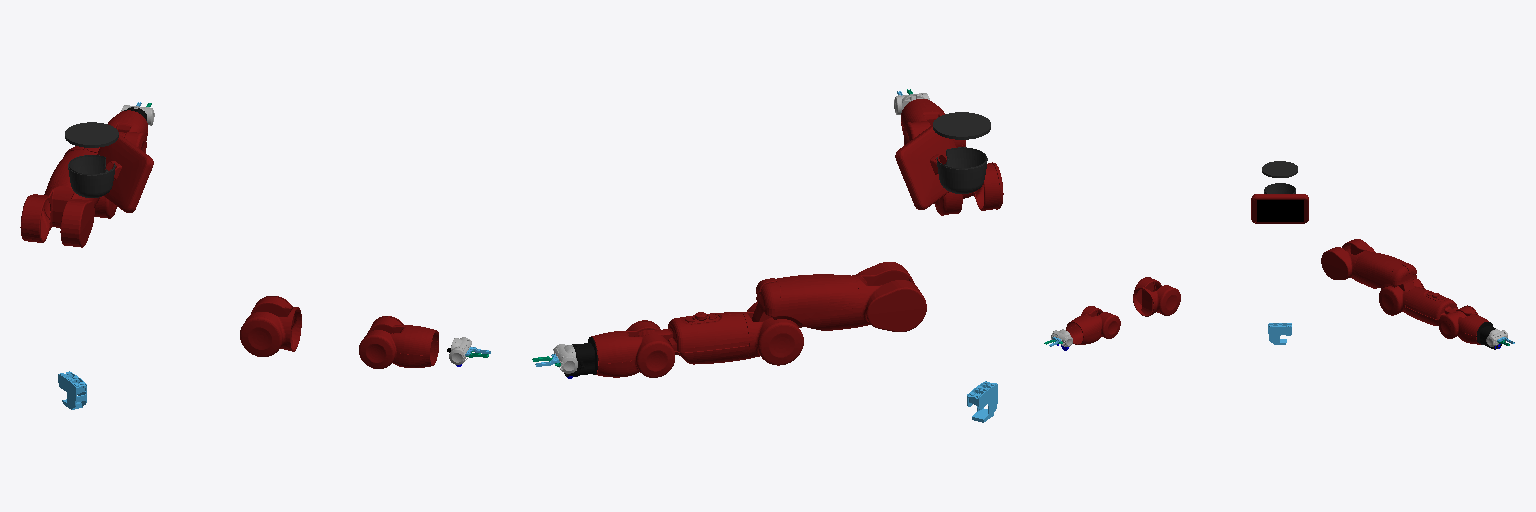
--- Facts derived from the render (not from the file) ---
Views: 3 orthographic renders of the robot side by side, from view 1: azimuth 30°, elevation 25°; view 2: azimuth 150°, elevation 25°; view 3: azimuth 270°, elevation 25°.
Robot: baxter — 43 links, 42 joints (15 revolute, 4 prismatic, 23 fixed); root link base; default pose: all joints at 0.
Links seen in each view (by area): view 1: left_lower_shoulder, right_lower_forearm, right_lower_elbow, screen, head, sonar_ring, left_lower_forearm, left_upper_elbow, torso; view 2: left_upper_elbow, left_upper_forearm, left_lower_shoulder, left_lower_forearm, screen, left_lower_elbow, head, right_lower_elbow, sonar_ring, right_lower_forearm, torso, left_wrist; view 3: left_upper_elbow, right_lower_forearm, right_lower_elbow, left_upper_forearm, left_lower_shoulder, left_lower_forearm, display, left_lower_elbow, screen.
Link boxes in pixels (left/top/right/bottom): left_lower_shoulder: left=20, top=184, right=94, bottom=247; right_lower_forearm: left=359, top=316, right=438, bottom=368; right_lower_elbow: left=240, top=296, right=301, bottom=356; screen: left=97, top=134, right=153, bottom=212; head: left=68, top=155, right=115, bottom=197; sonar_ring: left=65, top=122, right=118, bottom=147; left_lower_forearm: left=108, top=110, right=147, bottom=152; left_upper_elbow: left=44, top=146, right=99, bottom=219; torso: left=58, top=371, right=86, bottom=409; left_upper_elbow: left=752, top=274, right=860, bottom=330; left_upper_forearm: left=634, top=312, right=748, bottom=364; left_lower_shoulder: left=852, top=262, right=926, bottom=331; left_lower_forearm: left=591, top=320, right=674, bottom=377; screen: left=895, top=125, right=956, bottom=209; left_lower_elbow: left=742, top=302, right=803, bottom=365; head: left=936, top=147, right=987, bottom=193; right_lower_elbow: left=934, top=162, right=1003, bottom=215; sonar_ring: left=933, top=112, right=990, bottom=139; right_lower_forearm: left=901, top=99, right=965, bottom=147; torso: left=967, top=381, right=997, bottom=422; left_wrist: left=564, top=337, right=597, bottom=376; left_upper_elbow: left=1353, top=251, right=1416, bottom=291; right_lower_forearm: left=1066, top=306, right=1120, bottom=344; right_lower_elbow: left=1133, top=277, right=1180, bottom=316; left_upper_forearm: left=1406, top=288, right=1466, bottom=325; left_lower_shoulder: left=1321, top=239, right=1374, bottom=280; left_lower_forearm: left=1438, top=305, right=1488, bottom=344; display: left=1257, top=200, right=1303, bottom=221; left_lower_elbow: left=1379, top=278, right=1424, bottom=315; screen: left=1251, top=194, right=1308, bottom=223.
Bounding box of the posed robot: 0.924 × 2.19 × 0.9265 m (x, y, z).
17 mesh visuals loaded from 17 distinct referenced files (11 OBJ); not drawn: 7 (reference not matched to a file when rendering).

URDF robot description (baxter):
<?xml version="1.0" ?>
<!-- ============================================================================================== -->
<!-- |                                                                                            | -->
<!-- |    baxter.urdf is DEPRECATED. It is included here for backward compatibility.              | -->
<!-- |    Please use baxter.urdf.xacro by running:                                                | -->
<!-- |$ rosrun xacro xacro.py - -inorder `rospack find baxter_description`/urdf/baxter.urdf.xacro | -->
<!-- |                                                                                            | -->
<!-- ============================================================================================== -->
<robot name="baxter">
  <link name="base">
  </link>
  <link name="torso">
    <visual>
      <origin rpy="0 0 0" xyz="0 0 0"/>
      <geometry>
        <mesh filename="package://baxter_description/meshes/torso/base_link.obj"/>
      </geometry>
    </visual>
    <collision>
      <origin rpy="0 0 0" xyz="0 0 0"/>
      <geometry>
        <mesh filename="package://baxter_description/meshes/torso/base_link_collision.obj"/>
      </geometry>
    </collision>
    <inertial>
      <origin rpy="0 0 0" xyz="0.000000 0.000000 0.000000"/>
      <mass value="35.336455"/>
      <inertia ixx="1.849155" ixy="-0.000354" ixz="-0.154188" iyy="1.662671" iyz="0.003292" izz="0.802239"/>
    </inertial>
  </link>
  <!--link name="left_torso_itb">
    <inertial>
      <origin rpy="0 0 0" xyz="0.000000 0.000000 0.000000"/>
      <mass value="0.0001"/>
      <inertia ixx="1e-08" ixy="0" ixz="0" iyy="1e-08" iyz="0" izz="1e-08"/>
    </inertial>
  </link>
  <link name="right_torso_itb">
    <inertial>
      <origin rpy="0 0 0" xyz="0.000000 0.000000 0.000000"/>
      <mass value="0.0001"/>
      <inertia ixx="1e-08" ixy="0" ixz="0" iyy="1e-08" iyz="0" izz="1e-08"/>
    </inertial>
  </link-->
  <link name="pedestal">
    <visual>
      <origin rpy="0 0 0" xyz="0 0 0"/>
      <geometry>
        <mesh filename="package://baxter_description/meshes/base/PEDESTAL.obj"/>
      </geometry>
      <material name="darkgray">
        <color rgba=".2 .2 .2 1"/>
      </material>
    </visual>
    <collision>
      <origin rpy="0 0 0" xyz="0 0 0"/>
      <geometry>
        <mesh filename="package://baxter_description/meshes/base/pedestal_link_collision.obj"/>
      </geometry>
    </collision>
    <inertial>
      <origin rpy="0 0 0" xyz="0 0 0"/>
      <mass value="60.86397744"/>
      <inertia ixx="5.0635929" ixy="0.00103417" ixz="0.80199628" iyy="6.08689388" iyz="0.00105311" izz="4.96191932"/>
    </inertial>
  </link>
  <link name="head">
    <visual>
      <origin rpy="0 0 0" xyz="0 0 .00953"/>
      <geometry>
        <mesh filename="package://baxter_description/meshes/head/H0.obj"/>
      </geometry>
      <material name="darkgray">
        <color rgba=".2 .2 .2 1"/>
      </material>
    </visual>
    <collision>
      <origin rpy="0 0 0" xyz="0.0 0 0.0"/>
      <geometry>
        <sphere radius="0.001"/>
      </geometry>
    </collision>
    <inertial>
      <origin rpy="0 0 0" xyz="0 0 0"/>
      <mass value="0.547767"/>
      <inertia ixx="0.004641" ixy="0.000159" ixz="0.000242" iyy="0.003295" iyz="-0.001324" izz="0.003415"/>
    </inertial>
  </link>
  <link name="sonar_ring">
    <visual>
      <origin rpy="0 0 0" xyz="-.0347 0 .00953"/>
      <geometry>
        <cylinder length="0.01" radius="0.085"/>
      </geometry>
      <material name="darkgray">
        <color rgba=".2 .2 .2 1"/>
      </material>
    </visual>
    <collision>
      <origin rpy="0 0 0" xyz="0.0 0 0.0"/>
      <geometry>
        <sphere radius="0.001"/>
      </geometry>
    </collision>
    <inertial>
      <origin rpy="0 0 0" xyz="0 0 0"/>
      <mass value="0.0001"/>
      <inertia ixx="1e-08" ixy="0" ixz="0" iyy="1e-08" iyz="0" izz="1e-08"/>
    </inertial>
  </link>
  <link name="screen">
    <visual>
      <origin rpy="0 -1.57079632679 0" xyz="0 -.00953 -.0347"/>
      <geometry>
        <mesh filename="package://baxter_description/meshes/head/H1.obj"/>
      </geometry>
      <material name="darkred">
        <color rgba=".5 .1 .1 1"/>
      </material>
    </visual>
    <collision>
      <origin rpy="0 0 0" xyz="0.0 0 0.0"/>
      <geometry>
        <sphere radius="0.001"/>
      </geometry>
    </collision>
    <inertial>
      <origin rpy="0 0 0" xyz="0 0 0"/>
      <mass value="0.440171"/>
      <inertia ixx="0.004006" ixy="0.000230" ixz="0.000002" iyy="0.002800" iyz="0.000029" izz="0.001509"/>
    </inertial>
  </link>
  <link name="display">
    <visual>
      <origin rpy="0.2617993877991494 0 0" xyz="0 0 0"/>
      <geometry>
        <box size="0.218 0.16 0.001"/>
      </geometry>
      <material name="black">
        <color rgba="0 0 0 1"/>
      </material>
    </visual>
    <inertial>
      <origin rpy="0 0 0" xyz="0 0 0"/>
      <mass value="0.0001"/>
      <inertia ixx="1e-08" ixy="0" ixz="0" iyy="1e-08" iyz="0" izz="1e-08"/>
    </inertial>
  </link>
  <link name="head_camera">
    <inertial>
      <origin rpy="0 0 0" xyz="0 0 0"/>
      <mass value="0.0001"/>
      <inertia ixx="1e-08" ixy="0" ixz="0" iyy="1e-08" iyz="0" izz="1e-08"/>
    </inertial>
  </link>
  <link name="dummyhead1">
    <inertial>
      <origin rpy="0 0 0" xyz="0 0 0"/>
      <mass value="0.0001"/>
      <inertia ixx="1e-08" ixy="0" ixz="0" iyy="1e-08" iyz="0" izz="1e-08"/>
    </inertial>
  </link>
  <link name="collision_head_link_1">
    <visual>
      <origin rpy="0 0 0" xyz="0 0 0"/>
      <geometry>
        <sphere radius="0.001"/>
      </geometry>
      <material name="red">
        <color rgba="0.8 0.3 0.3 0.3"/>
      </material>
    </visual>
    <collision>
      <origin rpy="0 0 0.0" xyz="-0.07 -0.04 0.0"/>
      <geometry>
        <sphere radius="0.22"/>
      </geometry>
    </collision>
    <inertial>
      <origin rpy="0 0 0" xyz="0 0 0"/>
      <mass value="0.0001"/>
      <inertia ixx="1e-08" ixy="0" ixz="0" iyy="1e-08" iyz="0" izz="1e-08"/>
    </inertial>
  </link>
  <link name="collision_head_link_2">
    <visual>
      <origin rpy="0 0 0" xyz="0 0 0"/>
      <geometry>
        <sphere radius="0.001"/>
      </geometry>
      <material name="red">
        <color rgba="0.8 0.3 0.3 0.3"/>
      </material>
    </visual>
    <collision>
      <origin rpy="0 0 0" xyz="-0.07 0.04 0.00"/>
      <geometry>
        <sphere radius="0.22"/>
      </geometry>
    </collision>
    <inertial>
      <origin rpy="0 0 0" xyz="0 0 0"/>
      <mass value="0.0001"/>
      <inertia ixx="1e-08" ixy="0" ixz="0" iyy="1e-08" iyz="0" izz="1e-08"/>
    </inertial>
  </link>
  <joint name="collision_head_1" type="fixed">
    <origin rpy="0 0 0" xyz="0.11 0 0.75"/>
    <parent link="base"/>
    <child link="collision_head_link_1"/>
  </joint>
  <joint name="collision_head_2" type="fixed">
    <origin rpy="0 0 0" xyz="0.11 0 0.75"/>
    <parent link="base"/>
    <child link="collision_head_link_2"/>
  </joint>
  <joint name="dummy" type="fixed">
    <origin rpy="0 0 0" xyz="0 0 0"/>
    <parent link="head"/>
    <child link="dummyhead1"/>
  </joint>
  <joint name="torso_t0" type="fixed">
    <origin rpy="0 0 0" xyz="0 0 0"/>
    <parent link="base"/>
    <child link="torso"/>
    <limit effort="50000" lower="-3.01" upper="3.01" velocity="10000"/>
  </joint>
  <!--joint name="left_torso_itb_fixed" type="fixed">
    <origin rpy="-1.57079632679 3.1415 0" xyz="-0.08897 0.15593 0.389125"/>
    <parent link="torso"/>
    <child link="left_torso_itb"/>
  </joint>
  <joint name="right_torso_itb_fixed" type="fixed">
    <origin rpy="1.57079632679 0 0" xyz="-0.08897 -0.15593 0.389125"/>
    <parent link="torso"/>
    <child link="right_torso_itb"/>
  </joint-->
  <joint name="pedestal_fixed" type="fixed">
    <origin rpy="0 0 0" xyz="0.0 0.0 0.0"/>
    <parent link="torso"/>
    <child link="pedestal"/>
  </joint>
  <joint name="head_pan" type="revolute">
    <origin rpy="0 0 0" xyz="0.06 0 0.686"/>
    <axis xyz="0 0 1"/>
    <parent link="torso"/>
    <child link="head"/>
    <limit effort="50000" lower="-1.57079632679" upper="1.57079632679" velocity="10000"/>
    <dynamics damping="0.7" friction="0.0"/>
  </joint>
  <joint name="head_nod" type="fixed">
    <origin rpy="1.75057 0 1.57079632679" xyz=".1227 0 0"/>
    <parent link="head"/>
    <child link="screen"/>
  </joint>
  <joint name="head_camera" type="fixed">
    <origin rpy="1.75057 0 1.57079632679" xyz="0.12839 0 0.06368"/>
    <parent link="head"/>
    <child link="head_camera"/>
  </joint>
  <joint name="display_joint" type="fixed">
    <origin rpy="0 0 0" xyz="0.0 -0.016 0.0"/>
    <parent link="screen"/>
    <child link="display"/>
  </joint>
  <joint name="sonar_s0" type="fixed">
    <origin rpy="0 0 0" xyz="0.0947 0 .817"/>
    <axis xyz="0 0 1"/>
    <parent link="torso"/>
    <child link="sonar_ring"/>
  </joint>
  <!--link name="right_arm_mount">
    <gravity>0</gravity>
    <inertial>
      <origin rpy="0 0 0" xyz="0 0 0"/>
      <mass value="1"/>
      <inertia ixx="1" ixy="0" ixz="0" iyy="1" iyz="0" izz="1"/>
    </inertial>
  </link-->
  <link name="right_upper_shoulder">
 <gravity>0</gravity>
    <visual>
      <origin rpy="0 0 0" xyz="0 0 0"/>
      <geometry>
        <mesh filename="package://baxter_description/meshes/upper_shoulder/S0.DAE"/>
      </geometry>
      <material name="darkred">
        <color rgba=".5 .1 .1 1"/>
      </material>
    </visual>
    <collision>
      <origin rpy="0 0 0" xyz="0 0 0.1361"/>
      <geometry>
        <cylinder length="0.2722" radius="0.06"/>
      </geometry>
    </collision>
    <inertial>
      <origin rpy="0 0 0" xyz="0.01783 0.00086 0.19127"/>
      <mass value="5.70044"/>
      <inertia ixx="0.04709102262" ixy="0.00012787556" ixz="0.00614870039" iyy="0.03766976455" iyz="0.00078086899" izz="0.03595988478"/>
    </inertial>
  </link>
  <link name="right_lower_shoulder">
 <gravity>0</gravity>
    <visual>
      <origin rpy="0 0 0" xyz="0 0 0"/>
      <geometry>
        <mesh filename="package://baxter_description/meshes/lower_shoulder/S1.DAE"/>
      </geometry>
      <material name="darkred">
        <color rgba=".5 .1 .1 1"/>
      </material>
    </visual>
    <collision>
      <origin rpy="0 0 0" xyz="0 0 0"/>
      <geometry>
        <cylinder length="0.12" radius="0.06"/>
      </geometry>
    </collision>
    <inertial>
      <origin rpy="0 0 0" xyz="0.06845 0.00269 -0.00529"/>
      <mass value="3.22698"/>
      <inertia ixx="0.01175209419" ixy="-0.00030096398" ixz="0.00207675762" iyy="0.0278859752" iyz="-0.00018821993" izz="0.02078749298"/>
    </inertial>
  </link>
  <link name="right_upper_elbow">
 <gravity>0</gravity>
    <visual>
      <origin rpy="0 0 0" xyz="0 0 0"/>
      <geometry>
        <mesh filename="package://baxter_description/meshes/upper_elbow/E0.DAE"/>
      </geometry>
      <material name="darkred">
        <color rgba=".5 .1 .1 1"/>
      </material>
    </visual>
    <collision>
      <origin rpy="0 0 0" xyz="0 0 -0.0535"/>
      <geometry>
        <cylinder length="0.107" radius="0.06"/>
      </geometry>
    </collision>
    <inertial>
      <origin rpy="0 0 0" xyz="-0.00276 0.00132 0.18086"/>
      <mass value="4.31272"/>
      <inertia ixx="0.02661733557" ixy="0.00029270634" ixz="0.00392189887" iyy="0.02844355207" iyz="0.0010838933" izz="0.01248008322"/>
    </inertial>
  </link>
  <!--link name="right_upper_elbow_visual">
 <gravity>0</gravity>
    <collision>
      <origin rpy="0 0 0" xyz="0 0 0.1365"/>
      <geometry>
        <cylinder length="0.273" radius="0.06"/>
      </geometry>
    </collision>
    <inertial>
      <origin rpy="0 0 0" xyz="0 0 0"/>
      <mass value="0.0001"/>
      <inertia ixx="1e-08" ixy="0" ixz="0" iyy="1e-08" iyz="0" izz="1e-08"/>
    </inertial>
  </link-->
  <link name="right_lower_elbow">
 <gravity>0</gravity>
    <visual>
      <origin rpy="0 0 0" xyz="0 0 0"/>
      <geometry>
        <mesh filename="package://baxter_description/meshes/lower_elbow/E1.obj"/>
      </geometry>
      <material name="darkred">
        <color rgba=".5 .1 .1 1"/>
      </material>
    </visual>
    <collision>
      <origin rpy="0 0 0" xyz="0.0 0.0 0.0"/>
      <geometry>
        <cylinder length="0.10" radius="0.06"/>
      </geometry>
    </collision>
    <inertial>
      <origin rpy="0 0 0" xyz="0.02611 0.00159 -0.01117"/>
      <mass value="2.07206"/>
      <inertia ixx="0.00711582686" ixy="0.00036036173" ixz="0.0007459496" iyy="0.01318227876" iyz="-0.00019663418" izz="0.00926852064"/>
    </inertial>
  </link>
  <link name="right_upper_forearm">
 <gravity>0</gravity>
    <visual>
      <origin rpy="0 0 0" xyz="0 0 0"/>
      <geometry>
        <mesh filename="package://baxter_description/meshes/upper_forearm/W0.DAE"/>
      </geometry>
      <material name="darkred">
        <color rgba=".5 .1 .1 1"/>
      </material>
    </visual>
    <collision>
      <origin rpy="0 0 0" xyz="0 0 -0.044"/>
      <geometry>
        <cylinder length="0.088" radius="0.06"/>
      </geometry>
    </collision>
    <inertial>
      <origin rpy="0 0 0" xyz="-0.00168 0.0046 0.13952"/>
      <mass value="2.24665"/>
      <inertia ixx="0.01667742825" ixy="0.00018403705" ixz="0.00018657629" iyy="0.01675457264" iyz="-0.00064732352" izz="0.0037463115"/>
    </inertial>
  </link>
  <!--link name="right_upper_forearm_visual">
 <gravity>0</gravity>
    <collision>
      <origin rpy="0 0 0" xyz="0 0 0.136"/>
      <geometry>
        <cylinder length="0.272" radius="0.06"/>
      </geometry>
    </collision>
    <inertial>
      <origin rpy="0 0 0" xyz="0 0 0"/>
      <mass value="0.0001"/>
      <inertia ixx="1e-08" ixy="0" ixz="0" iyy="1e-08" iyz="0" izz="1e-08"/>
    </inertial>
  </link-->
  <!--link name="right_arm_itb">
 <gravity>0</gravity>
    <inertial>
      <origin rpy="0 0 0" xyz="0.000000 0.000000 0.000000"/>
      <mass value="0.0001"/>
      <inertia ixx="1e-08" ixy="0" ixz="0" iyy="1e-08" iyz="0" izz="1e-08"/>
    </inertial>
  </link-->
  <link name="right_lower_forearm">
 <gravity>0</gravity>
    <visual>
      <origin rpy="0 0 0" xyz="0 0 0"/>
      <geometry>
        <mesh filename="package://baxter_description/meshes/lower_forearm/W1.obj"/>
      </geometry>
      <material name="darkred">
        <color rgba=".5 .1 .1 1"/>
      </material>
    </visual>
    <collision>
      <origin rpy="0 0 0" xyz="0 0 0"/>
      <geometry>
        <cylinder length="0.10" radius="0.06"/>
      </geometry>
    </collision>
    <inertial>
      <origin rpy="0 0 0" xyz="0.06041 0.00697 0.006"/>
      <mass value="1.60979"/>
      <inertia ixx="0.00387607152" ixy="-0.00044384784" ixz="-0.00021115038" iyy="0.00700537914" iyz="0.00015348067" izz="0.0055275524"/>
    </inertial>
  </link>
  <link name="right_wrist">
 <gravity>0</gravity>
    <visual>
      <origin rpy="0 0 0" xyz="0 0 0"/>
      <geometry>
        <mesh filename="package://baxter_description/meshes/wrist/W2.DAE"/>
      </geometry>
      <material name="lightgrey">
        <color rgba=".1 .1 .1 1"/>
      </material>
    </visual>
    <collision>
      <origin rpy="0 0 0" xyz="0 0 0"/>
      <geometry>
        <cylinder length="0.165" radius="0.06"/>
      </geometry>
    </collision>
    <inertial>
      <origin rpy="0 0 0" xyz="0.00198 0.00125 0.01855"/>
      <mass value="0.35093"/>
      <inertia ixx="0.00025289155" ixy="0.00000575311" ixz="-0.00000159345" iyy="0.0002688601" iyz="-0.00000519818" izz="0.0003074118"/>
    </inertial>
  </link>
  <link name="right_hand">
 <gravity>0</gravity>
    <collision>
      <origin rpy="0 0 0" xyz="0 0 -0.0232"/>
      <geometry>
        <cylinder length="0.0464" radius="0.04"/>
      </geometry>
    </collision>
    <inertial>
      <origin rpy="0 0 0" xyz="0.01093 0.00042 -0.01532"/>
      <mass value="0.19125"/>
      <inertia ixx="0.00017588" ixy="0.00000147073" ixz="0.0000243633" iyy="0.00021166377" iyz="0.00000172689" izz="0.00023745397"/>
    </inertial>
  </link>
  <link name="right_hand_camera">
 <gravity>0</gravity>
    <visual>
      <origin rpy="0 0 0" xyz="0 0 0"/>
      <geometry>
        <cylinder length="0.01" radius="0.02"/>
      </geometry>
      <material name="blue">
        <color rgba="0 0 1 0.8"/>
      </material>
    </visual>
    <inertial>
      <origin rpy="0 0 0" xyz="0 0 0"/>
      <mass value="0.0001"/>
      <inertia ixx="1e-08" ixy="0" ixz="0" iyy="1e-08" iyz="0" izz="1e-08"/>
    </inertial>
  </link>
  <link name="right_hand_camera_axis">
 <gravity>0</gravity>
    <inertial>
      <origin rpy="0 0 0" xyz="0 0 0"/>
      <mass value="0.0001"/>
      <inertia ixx="1e-08" ixy="0" ixz="0" iyy="1e-08" iyz="0" izz="1e-08"/>
    </inertial>
  </link>
  <link name="right_hand_range">
 <gravity>0</gravity>
    <visual>
      <origin rpy="0 0 0" xyz="0 0 0"/>
      <geometry>
        <box size="0.005 .02 .005"/>
      </geometry>
      <material name="blue">
        <color rgba="0 0 1 0.8"/>
      </material>
    </visual>
    <inertial>
      <origin rpy="0 0 0" xyz="0 0 0"/>
      <mass value="0.0001"/>
      <inertia ixx="1e-08" ixy="0" ixz="0" iyy="1e-08" iyz="0" izz="1e-08"/>
    </inertial>
  </link>
  <link name="right_hand_accelerometer">
 <gravity>0</gravity>
    <visual>
      <origin rpy="0 0 0" xyz="0 0 0"/>
      <geometry>
        <box size="0.01 0.01 0.01"/>
      </geometry>
      <material name="black">
        <color rgba="0 0 0 1"/>
      </material>
    </visual>
    <inertial>
      <origin rpy="0 0 0" xyz="0.000000 0.000000 0.000000"/>
      <mass value="0.0001"/>
      <inertia ixx="1e-08" ixy="0" ixz="0" iyy="1e-08" iyz="0" izz="1e-08"/>
    </inertial>
  </link>
  <link name="right_gripper_base">
 <gravity>0</gravity>
   <visual>
      <origin rpy="-1.57079632679 3.14159265359 0" xyz="0 0 0"/>
      <geometry>
        <mesh filename="package://rethink_ee_description/meshes/electric_gripper/electric_gripper_base.obj"/>
      </geometry>
    </visual>
    <collision>
      <origin rpy="-1.57079632679 3.14159265359 0" xyz="0.0 0.0 0"/>
      <geometry>
        <cylinder length="0.1" radius="0.029"/>
      </geometry>
      <material name="darkred">
        <color rgba=".5 .1 .1 1"/>
      </material>
    </collision>
    <inertial>
      <origin rpy="-1.57079632679 3.14159265359 0" xyz="0.0 0.0 0.0"/>
      <mass value="0.3"/>
      <inertia ixx="2e-08" ixy="0" ixz="0" iyy="3e-08" iyz="0" izz="2e-08"/>
    </inertial>
  </link>
  <link name="right_gripper">
 <gravity>0</gravity>
    <inertial>
      <origin rpy="0 0 0" xyz="0 0 0"/>
      <mass value="0.0001"/>
      <inertia ixx="0" ixy="0" ixz="0" iyy="0" iyz="0" izz="0.0"/>
    </inertial>
  </link>
  <link name="right_gripper_l_finger">
      <visual>
        <origin rpy="0 0 -3.14159265359" xyz="0 0 0"/>
        <geometry>
          <mesh filename="package://rethink_ee_description/meshes/electric_gripper/fingers/standard_narrow.obj" />
        </geometry>
      </visual>
      <collision>
        <origin rpy="0 0 -3.14159265359" xyz="0 0.01725 0.04"/>
        <geometry>
          <box size="0.01 0.0135 0.067"/>
        </geometry>
      </collision>
      <collision>
        <origin rpy="0 0 -3.14159265359" xyz="-0.005 -0.003 0.0083"/>
        <geometry>
          <box size="0.01 0.05 0.017"/>
        </geometry>
      </collision>
      <inertial>
        <origin rpy="0 0 -3.14159265359" xyz="0 0 0"/>
        <mass value="0.02"/>
        <inertia ixx="0.01" ixy="0" ixz="0" iyy="0.01" iyz="0" izz="0.01"/>
      </inertial>
    </link>

    <link name="right_gripper_r_finger">
      <visual>
        <origin rpy="0 0 0" xyz="0 0 0"/>
        <geometry>
          <mesh filename="package://rethink_ee_description/meshes/electric_gripper/fingers/standard_narrow.obj" />
        </geometry>
      </visual>
      <collision>
        <origin rpy="0 0 0" xyz="0 -0.01725 0.04"/>
        <geometry>
          <box size="0.01 0.0135 0.067"/>
        </geometry>
      </collision>
      <collision>
        <origin rpy="0 0 0" xyz="0.005 0.003 0.0083"/>
        <geometry>
          <box size="0.01 0.05 0.017"/>
        </geometry>
      </collision>
      <inertial>
        <origin rpy="0 0 0" xyz="0 0 0"/>
        <mass value="0.02"/>
        <inertia ixx="0.01" ixy="0" ixz="0" iyy="0.01" iyz="0" izz="0.01"/>
      </inertial>
    </link>
  <!--joint name="right_torso_arm_mount" type="fixed">
    <origin rpy="0 0 -0.7854" xyz="0.024645 -0.219645 0.118588"/>
    <parent link="torso"/>
    <child link="right_arm_mount"/>
  </joint>
  <joint name="right_s0" type="revolute">
    <origin rpy="0 0 0" xyz="0.055695 0 0.011038"/>
    <axis xyz="0 0 1"/>
    <parent link="right_arm_mount"/>
    <child link="right_upper_shoulder"/>
    <limit effort="50.0" lower="-1.70167993878" upper="1.70167993878" velocity="1.5"/>
    <dynamics damping="0.7" friction="0.0"/>
  </joint-->
  <joint name="right_s0" type="revolute">
    <origin rpy="0 0 -0.7854" xyz="0.06 -0.26 0.12"/>
    <axis xyz="0 0 1"/>
    <parent link="torso"/>
    <child link="right_upper_shoulder"/>
    <limit effort="50.0" lower="-1.70167993878" upper="1.70167993878" velocity="1.5"/>
    <dynamics damping="0.7" friction="0.0"/>
  </joint>
  <joint name="right_s1" type="revolute">
    <origin rpy="-1.57079632679 0 0" xyz="0.069 0 0.27035"/>
    <axis xyz="0 0 1"/>
    <parent link="right_upper_shoulder"/>
    <child link="right_lower_shoulder"/>
    <limit effort="100.0" lower="-2.147" upper="1.047" velocity="1.5"/>
    <dynamics damping="0.7" friction="0.0"/>
  </joint>
  <joint name="right_e0" type="revolute">
    <origin rpy="1.57079632679 0 1.57079632679" xyz="0.107 0 0"/>
    <axis xyz="0 0 1"/>
    <parent link="right_lower_shoulder"/>
    <child link="right_upper_elbow"/>
    <limit effort="50.0" lower="-3.05417993878" upper="3.05417993878" velocity="1.5"/>
    <dynamics damping="0.7" friction="0.0"/>
  </joint>
  <!--joint name="right_e0_fixed" type="fixed">
    <origin rpy="1.57079632679 0 1.57079632679" xyz="0.107 0 0"/>
    <axis xyz="0 0 1"/>
    <parent link="right_lower_shoulder"/>
    <child link="right_upper_elbow_visual"/>
  </joint-->
  <joint name="right_e1" type="revolute">
    <origin rpy="-1.57079632679 -1.57079632679 0" xyz="0.069 0 0.26242"/>
    <axis xyz="0 0 1"/>
    <parent link="right_upper_elbow"/>
    <child link="right_lower_elbow"/>
    <limit effort="50.0" lower="-0.05" upper="2.618" velocity="1.5"/>
    <dynamics damping="0.7" friction="0.0"/>
  </joint>
  <joint name="right_w0" type="revolute">
    <origin rpy="1.57079632679 0 1.57079632679" xyz="0.10359 0 0"/>
    <axis xyz="0 0 1"/>
    <parent link="right_lower_elbow"/>
    <child link="right_upper_forearm"/>
    <limit effort="15.0" lower="-3.059" upper="3.059" velocity="4.0"/>
    <dynamics damping="0.7" friction="0.0"/>
  </joint>
  <!--joint name="right_w0_fixed" type="fixed">
    <origin rpy="1.57079632679 0 1.57079632679" xyz="0.088 0 0"/>
    <axis xyz="0 0 1"/>
    <parent link="right_lower_elbow"/>
    <child link="right_upper_forearm_visual"/>
  </joint-->
  <!--joint name="right_w0_to_itb_fixed" type="fixed">
    <origin rpy="-1.57079632679 0 1.57079632679" xyz="-0.0565 0 0.12"/>
    <axis xyz="0 0 1"/>
    <parent link="right_upper_forearm"/>
    <child link="right_arm_itb"/>
  </joint-->
  <joint name="right_w1" type="revolute">
    <origin rpy="-1.57079632679 -1.57079632679 0" xyz="0.01 0 0.2707"/>
    <axis xyz="0 0 1"/>
    <parent link="right_upper_forearm"/>
    <child link="right_lower_forearm"/>
    <limit effort="15.0" lower="-1.57079632679" upper="2.094" velocity="4.0"/>
    <dynamics damping="0.7" friction="0.0"/>
  </joint>
  <joint name="right_w2" type="revolute">
    <origin rpy="1.57079632679 0 1.57079632679" xyz="0.115975 0 0"/>
    <axis xyz="0 0 1"/>
    <parent link="right_lower_forearm"/>
    <child link="right_wrist"/>
    <limit effort="15.0" lower="-3.059" upper="3.059" velocity="4.0"/>
    <dynamics damping="0.7" friction="0.0"/>
  </joint>
  <joint name="right_hand" type="fixed">
    <origin rpy="0 0 0" xyz="0 0 0.11355"/>
    <axis xyz="0 0 1"/>
    <parent link="right_wrist"/>
    <child link="right_hand"/>
    <dynamics damping="0.7" friction="0.0"/>
  </joint>
  <joint name="right_hand_camera" type="fixed">
    <origin rpy="0 0 -1.57079633" xyz="0.03825 0.012 0.015355"/>
    <parent link="right_hand"/>
    <child link="right_hand_camera"/>
  </joint>
  <joint name="right_hand_camera_axis" type="fixed">
    <origin rpy="0 0 0" xyz="0.03825 0.012 0.015355"/>
    <parent link="right_hand"/>
    <child link="right_hand_camera_axis"/>
  </joint>
  <joint name="right_hand_range" type="fixed">
    <origin rpy="0 -1.57079632679 -1.57079632679" xyz="0.032 -0.020245 0.0288"/>
    <parent link="right_hand"/>
    <child link="right_hand_range"/>
  </joint>
  <joint name="right_hand_accelerometer" type="fixed">
    <origin rpy="0 0 0" xyz="0.00198 0.000133 -0.0146"/>
    <parent link="right_hand"/>
    <child link="right_hand_accelerometer"/>
  </joint>
  <joint name="right_gripper_base" type="fixed">
    <origin rpy="0 0 0" xyz="0 0 0.025"/>
    <parent link="right_hand"/>
    <child link="right_gripper_base"/>
  </joint>
  <joint name="right_endpoint" type="fixed">
    <origin rpy="0 0 0" xyz="0.0 0 0.025"/>
    <parent link="right_gripper_base"/>
    <child link="right_gripper"/>
  </joint>
  <!-- Left finger -->
  <joint name="right_gripper_l_finger_joint" type="prismatic">
    <origin rpy="0 0 0" xyz="0.0 -0.0015 0.02"/>
    <axis xyz="0 1 0"/>
    <parent link="right_gripper_base"/>
    <child link="right_gripper_l_finger"/>
    <limit effort="20.0" lower="0.0" upper="0.020833" velocity="5.0"/>
    <dynamics damping="0.7" friction="0.0"/>
  </joint>
  <!-- Right finger -->
  <joint name="right_gripper_r_finger_joint" type="prismatic">
    <origin rpy="0 0 0" xyz="0.0 0.0015 0.02"/>
    <axis xyz="0 -1 0"/>
    <parent link="right_gripper_base"/>
    <child link="right_gripper_r_finger"/>
    <limit effort="20.0" lower="0.0" upper="0.020833" velocity="5.0"/>
    <mimic joint="right_gripper_l_finger_joint" multiplier="-1.0"/>
    <dynamics damping="0.7" friction="0.0"/>
  </joint>
  <!--link name="left_arm_mount">
    <gravity>0</gravity>
    <inertial>
      <origin rpy="0 0 0" xyz="0 0 0"/>
      <mass value="1"/>
      <inertia ixx="1" ixy="0" ixz="0" iyy="1" iyz="0" izz="1"/>
    </inertial>
  </link-->
  <link name="left_upper_shoulder">
 <gravity>0</gravity>
    <visual>
      <origin rpy="0 0 0" xyz="0 0 0"/>
      <geometry>
        <mesh filename="package://baxter_description/meshes/upper_shoulder/S0.DAE"/>
      </geometry>
      <material name="darkred">
        <color rgba=".5 .1 .1 1"/>
      </material>
    </visual>
    <collision>
      <origin rpy="0 0 0" xyz="0 0 0.1361"/>
      <geometry>
        <cylinder length="0.2722" radius="0.06"/>
      </geometry>
    </collision>
    <inertial>
      <origin rpy="0 0 0" xyz="0.01783 0.00086 0.19127"/>
      <mass value="5.70044"/>
      <inertia ixx="0.04709102262" ixy="0.00012787556" ixz="0.00614870039" iyy="0.03766976455" iyz="0.00078086899" izz="0.03595988478"/>
    </inertial>
  </link>
  <link name="left_lower_shoulder">
 <gravity>0</gravity>
    <visual>
      <origin rpy="0 0 0" xyz="0 0 0"/>
      <geometry>
        <mesh filename="package://baxter_description/meshes/lower_shoulder/S1.obj"/>
      </geometry>
      <material name="darkred">
        <color rgba=".5 .1 .1 1"/>
      </material>
    </visual>
    <collision>
      <origin rpy="0 0 0" xyz="0 0 0"/>
      <geometry>
        <cylinder length="0.12" radius="0.06"/>
      </geometry>
    </collision>
    <inertial>
      <origin rpy="0 0 0" xyz="0.06845 0.00269 -0.00529"/>
      <mass value="3.22698"/>
      <inertia ixx="0.01175209419" ixy="-0.00030096398" ixz="0.00207675762" iyy="0.0278859752" iyz="-0.00018821993" izz="0.02078749298"/>
    </inertial>
  </link>
  <link name="left_upper_elbow">
 <gravity>0</gravity>
    <visual>
      <origin rpy="0 0 0" xyz="0 0 0"/>
      <geometry>
        <mesh filename="package://baxter_description/meshes/upper_elbow/E0.obj"/>
      </geometry>
      <material name="darkred">
        <color rgba=".5 .1 .1 1"/>
      </material>
    </visual>
    <collision>
      <origin rpy="0 0 0" xyz="0 0 -0.0535"/>
      <geometry>
        <cylinder length="0.107" radius="0.06"/>
      </geometry>
    </collision>
    <inertial>
      <origin rpy="0 0 0" xyz="-0.00276 0.00132 0.18086"/>
      <mass value="4.31272"/>
      <inertia ixx="0.02661733557" ixy="0.00029270634" ixz="0.00392189887" iyy="0.02844355207" iyz="0.0010838933" izz="0.01248008322"/>
    </inertial>
  </link>
<!--link name="left_upper_elbow_visual">
 <gravity>0</gravity>
    <collision>
      <origin rpy="0 0 0" xyz="0 0 0.1365"/>
      <geometry>
        <cylinder length="0.273" radius="0.06"/>
      </geometry>
    </collision>
    <inertial>
      <origin rpy="0 0 0" xyz="0 0 0"/>
      <mass value="0.0001"/>
      <inertia ixx="1e-08" ixy="0" ixz="0" iyy="1e-08" iyz="0" izz="1e-08"/>
    </inertial>
  </link-->
  <link name="left_lower_elbow">
 <gravity>0</gravity>
    <visual>
      <origin rpy="0 0 0" xyz="0 0 0"/>
      <geometry>
        <mesh filename="package://baxter_description/meshes/lower_elbow/E1.obj"/>
      </geometry>
      <material name="darkred">
        <color rgba=".5 .1 .1 1"/>
      </material>
    </visual>
    <collision>
      <origin rpy="0 0 0" xyz="0.0 0.0 0.0"/>
      <geometry>
        <cylinder length="0.10" radius="0.06"/>
      </geometry>
    </collision>
    <inertial>
      <origin rpy="0 0 0" xyz="0.02611 0.00159 -0.01117"/>
      <mass value="2.07206"/>
      <inertia ixx="0.00711582686" ixy="0.00036036173" ixz="0.0007459496" iyy="0.01318227876" iyz="-0.00019663418" izz="0.00926852064"/>
    </inertial>
  </link>
  <link name="left_upper_forearm">
 <gravity>0</gravity>
    <visual>
      <origin rpy="0 0 0" xyz="0 0 0"/>
      <geometry>
        <mesh filename="package://baxter_description/meshes/upper_forearm/W0.obj"/>
      </geometry>
      <material name="darkred">
        <color rgba=".5 .1 .1 1"/>
      </material>
    </visual>
    <collision>
      <origin rpy="0 0 0" xyz="0 0 -0.044"/>
      <geometry>
        <cylinder length="0.088" radius="0.06"/>
      </geometry>
    </collision>
    <inertial>
      <origin rpy="0 0 0" xyz="-0.00168 0.0046 0.13952"/>
      <mass value="2.24665"/>
      <inertia ixx="0.01667742825" ixy="0.00018403705" ixz="0.00018657629" iyy="0.01675457264" iyz="-0.00064732352" izz="0.0037463115"/>
    </inertial>
  </link>
  <!--link name="left_upper_forearm_visual">
 <gravity>0</gravity>
    <collision>
      <origin rpy="0 0 0" xyz="0 0 0.136"/>
      <geometry>
        <cylinder length="0.272" radius="0.06"/>
      </geometry>
    </collision>
    <inertial>
      <origin rpy="0 0 0" xyz="0 0 0"/>
      <mass value="0.0001"/>
      <inertia ixx="1e-08" ixy="0" ixz="0" iyy="1e-08" iyz="0" izz="1e-08"/>
    </inertial>
  </link-->
  <!--link name="left_arm_itb">
 <gravity>0</gravity>
    <inertial>
      <origin rpy="0 0 0" xyz="0.000000 0.000000 0.000000"/>
      <mass value="0.0001"/>
      <inertia ixx="1e-08" ixy="0" ixz="0" iyy="1e-08" iyz="0" izz="1e-08"/>
    </inertial>
  </link-->
  <link name="left_lower_forearm">
 <gravity>0</gravity>
    <visual>
      <origin rpy="0 0 0" xyz="0 0 0"/>
      <geometry>
        <mesh filename="package://baxter_description/meshes/lower_forearm/W1.obj"/>
      </geometry>
      <material name="darkred">
        <color rgba=".5 .1 .1 1"/>
      </material>
    </visual>
    <collision>
      <origin rpy="0 0 0" xyz="0 0 0"/>
      <geometry>
        <cylinder length="0.10" radius="0.06"/>
      </geometry>
    </collision>
    <inertial>
      <origin rpy="0 0 0" xyz="0.06041 0.00697 0.006"/>
      <mass value="1.60979"/>
      <inertia ixx="0.00387607152" ixy="-0.00044384784" ixz="-0.00021115038" iyy="0.00700537914" iyz="0.00015348067" izz="0.0055275524"/>
    </inertial>
  </link>
  <link name="left_wrist">
 <gravity>0</gravity>
    <visual>
      <origin rpy="0 0 0" xyz="0 0 0"/>
      <geometry>
        <mesh filename="package://baxter_description/meshes/wrist/W2.obj"/>
      </geometry>
      <material name="lightgrey">
        <color rgba=".1 .1 .1 1"/>
      </material>
    </visual>
    <collision>
      <origin rpy="0 0 0" xyz="0 0 0"/>
      <geometry>
        <cylinder length="0.165" radius="0.06"/>
      </geometry>
    </collision>
    <inertial>
      <origin rpy="0 0 0" xyz="0.00198 0.00125 0.01855"/>
      <mass value="0.35093"/>
      <inertia ixx="0.00025289155" ixy="0.00000575311" ixz="-0.00000159345" iyy="0.0002688601" iyz="-0.00000519818" izz="0.0003074118"/>
    </inertial>
  </link>
  <link name="left_hand">
 <gravity>0</gravity>
    <collision>
      <origin rpy="0 0 0" xyz="0 0 -0.0232"/>
      <geometry>
        <cylinder length="0.0464" radius="0.04"/>
      </geometry>
    </collision>
    <inertial>
      <origin rpy="0 0 0" xyz="0.01093 0.00042 -0.01532"/>
      <mass value="0.19125"/>
      <inertia ixx="0.00017588" ixy="0.00000147073" ixz="0.0000243633" iyy="0.00021166377" iyz="0.00000172689" izz="0.00023745397"/>
    </inertial>
  </link>
  <link name="left_hand_camera">
 <gravity>0</gravity>
    <visual>
      <origin rpy="0 0 0" xyz="0 0 0"/>
      <geometry>
        <cylinder length="0.01" radius="0.02"/>
      </geometry>
      <material name="blue">
        <color rgba="0 0 1 0.8"/>
      </material>
    </visual>
    <inertial>
      <origin rpy="0 0 0" xyz="0 0 0"/>
      <mass value="0.0001"/>
      <inertia ixx="1e-08" ixy="0" ixz="0" iyy="1e-08" iyz="0" izz="1e-08"/>
    </inertial>
  </link>
  <link name="left_hand_camera_axis">
 <gravity>0</gravity>
    <inertial>
      <origin rpy="0 0 0" xyz="0 0 0"/>
      <mass value="0.0001"/>
      <inertia ixx="1e-08" ixy="0" ixz="0" iyy="1e-08" iyz="0" izz="1e-08"/>
    </inertial>
  </link>
  <link name="left_hand_range">
 <gravity>0</gravity>
    <visual>
      <origin rpy="0 0 0" xyz="0 0 0"/>
      <geometry>
        <box size="0.005 .02 .005"/>
      </geometry>
      <material name="blue">
        <color rgba="0 0 1 0.8"/>
      </material>
    </visual>
    <inertial>
      <origin rpy="0 0 0" xyz="0 0 0"/>
      <mass value="0.0001"/>
      <inertia ixx="1e-08" ixy="0" ixz="0" iyy="1e-08" iyz="0" izz="1e-08"/>
    </inertial>
  </link>
  <link name="left_hand_accelerometer">
 <gravity>0</gravity>
    <visual>
      <origin rpy="0 0 0" xyz="0 0 0"/>
      <geometry>
        <box size="0.01 0.01 0.01"/>
      </geometry>
      <material name="black">
        <color rgba="0 0 0 1"/>
      </material>
    </visual>
    <inertial>
      <origin rpy="0 0 0" xyz="0.000000 0.000000 0.000000"/>
      <mass value="0.0001"/>
      <inertia ixx="1e-08" ixy="0" ixz="0" iyy="1e-08" iyz="0" izz="1e-08"/>
    </inertial>
  </link>
  <link name="left_gripper_base">
    <visual>
      <origin rpy="-1.57079632679 3.14159265359 0" xyz="0 0 0"/>
      <geometry>
        <mesh filename="package://rethink_ee_description/meshes/electric_gripper/electric_gripper_base.obj"/>
      </geometry>
    </visual>
    <collision>
      <origin rpy="-1.57079632679 3.14159265359 0" xyz="0.0 0.0 0"/>
      <geometry>
        <cylinder length="0.1" radius="0.029"/>
      </geometry>
      <material name="darkred">
        <color rgba=".5 .1 .1 1"/>
      </material>
    </collision>
    <inertial>
      <origin rpy="-1.57079632679 3.14159265359 0" xyz="0.0 0.0 0.0"/>
      <mass value="0.3"/>
      <inertia ixx="2e-08" ixy="0" ixz="0" iyy="3e-08" iyz="0" izz="2e-08"/>
    </inertial>
  </link>
  <link name="left_gripper">
 <gravity>0</gravity>
    <inertial>
      <origin rpy="0 0 0" xyz="0 0 0"/>
      <mass value="0.0001"/>
      <inertia ixx="0" ixy="0" ixz="0" iyy="0" iyz="0" izz="0.0"/>
    </inertial>
  </link>
  <link name="left_gripper_l_finger">
    <visual>
      <origin rpy="0 0 -3.14159265359" xyz="0 0 0"/>
      <geometry>
        <mesh filename="package://rethink_ee_description/meshes/electric_gripper/fingers/standard_narrow.obj" />
      </geometry>
    </visual>
    <collision>
      <origin rpy="0 0 -3.14159265359" xyz="0 0.01725 0.04"/>
      <geometry>
        <box size="0.01 0.0135 0.067"/>
      </geometry>
    </collision>
    <collision>
      <origin rpy="0 0 -3.14159265359" xyz="-0.005 -0.003 0.0083"/>
      <geometry>
        <box size="0.01 0.05 0.017"/>
      </geometry>
    </collision>
    <inertial>
      <origin rpy="0 0 -3.14159265359" xyz="0 0 0"/>
      <mass value="0.02"/>
      <inertia ixx="0.01" ixy="0" ixz="0" iyy="0.01" iyz="0" izz="0.01"/>
    </inertial>
  </link>

  <link name="left_gripper_r_finger">
    <visual>
      <origin rpy="0 0 0" xyz="0 0 0"/>
      <geometry>
        <mesh filename="package://rethink_ee_description/meshes/electric_gripper/fingers/standard_narrow.obj" />
      </geometry>
    </visual>
    <collision>
      <origin rpy="0 0 0" xyz="0 -0.01725 0.04"/>
      <geometry>
        <box size="0.01 0.0135 0.067"/>
      </geometry>
    </collision>
    <collision>
      <origin rpy="0 0 0" xyz="0.005 0.003 0.0083"/>
      <geometry>
        <box size="0.01 0.05 0.017"/>
      </geometry>
    </collision>
    <inertial>
      <origin rpy="0 0 0" xyz="0 0 0"/>
      <mass value="0.02"/>
      <inertia ixx="0.01" ixy="0" ixz="0" iyy="0.01" iyz="0" izz="0.01"/>
    </inertial>
  </link>



  <!--joint name="left_torso_arm_mount" type="fixed">
    <origin rpy="0 0 0.7854" xyz="0.024645 0.219645 0.118588"/>
    <parent link="torso"/>
    <child link="left_arm_mount"/>
  </joint>
  <joint name="left_s0" type="revolute">
    <origin rpy="0 0 0" xyz="0.055695 0 0.011038"/>
    <axis xyz="0 0 1"/>
    <parent link="left_arm_mount"/>
    <child link="left_upper_shoulder"/>
    <limit effort="50.0" lower="-1.70167993878" upper="1.70167993878" velocity="1.5"/>
    <dynamics damping="0.7" friction="0.0"/>
  </joint-->
  <joint name="left_s0" type="revolute">
    <origin rpy="0 0 0.7854" xyz="0.06 0.26 0.12"/>
    <axis xyz="0 0 1"/>
    <parent link="torso"/>
    <child link="left_upper_shoulder"/>
    <limit effort="50.0" lower="-1.70167993878" upper="1.70167993878" velocity="1.5"/>
    <dynamics damping="0.7" friction="0.0"/>
  </joint>
  <joint name="left_s1" type="revolute">
    <origin rpy="-1.57079632679 0 0" xyz="0.069 0 0.27035"/>
    <axis xyz="0 0 1"/>
    <parent link="left_upper_shoulder"/>
    <child link="left_lower_shoulder"/>
    <limit effort="100.0" lower="-2.147" upper="1.047" velocity="1.5"/>
    <dynamics damping="0.7" friction="0.0"/>
  </joint>
  <joint name="left_e0" type="revolute">
    <origin rpy="1.57079632679 0 1.57079632679" xyz="0.102 0 0"/>
    <axis xyz="0 0 1"/>
    <parent link="left_lower_shoulder"/>
    <child link="left_upper_elbow"/>
    <limit effort="50.0" lower="-3.05417993878" upper="3.05417993878" velocity="1.5"/>
    <dynamics damping="0.7" friction="0.0"/>
  </joint>
  <!--joint name="left_e0_fixed" type="fixed">
    <origin rpy="1.57079632679 0 1.57079632679" xyz="0.107 0 0"/>
    <axis xyz="0 0 1"/>
    <parent link="left_lower_shoulder"/>
    <child link="left_upper_elbow_visual"/>
  </joint-->
  <joint name="left_e1" type="revolute">
    <origin rpy="-1.57079632679 -1.57079632679 0" xyz="0.069 0 0.26242"/>
    <axis xyz="0 0 1"/>
    <parent link="left_upper_elbow"/>
    <child link="left_lower_elbow"/>
    <limit effort="50.0" lower="-0.05" upper="2.618" velocity="1.5"/>
    <dynamics damping="0.7" friction="0.0"/>
  </joint>
  <joint name="left_w0" type="revolute">
    <origin rpy="1.57079632679 0 1.57079632679" xyz="0.10359 0 0"/>
    <axis xyz="0 0 1"/>
    <parent link="left_lower_elbow"/>
    <child link="left_upper_forearm"/>
    <limit effort="15.0" lower="-3.059" upper="3.059" velocity="4.0"/>
    <dynamics damping="0.7" friction="0.0"/>
  </joint>
  <!--joint name="left_w0_fixed" type="fixed">
    <origin rpy="1.57079632679 0 1.57079632679" xyz="0.088 0 0"/>
    <axis xyz="0 0 1"/>
    <parent link="left_lower_elbow"/>
    <child link="left_upper_forearm_visual"/>
  </joint-->
  <!--joint name="left_w0_to_itb_fixed" type="fixed">
    <origin rpy="-1.57079632679 0 1.57079632679" xyz="-0.0565 0 0.12"/>
    <axis xyz="0 0 1"/>
    <parent link="left_upper_forearm"/>
    <child link="left_arm_itb"/>
  </joint-->
  <joint name="left_w1" type="revolute">
    <origin rpy="-1.57079632679 -1.57079632679 0" xyz="0.01 0 0.2707"/>
    <axis xyz="0 0 1"/>
    <parent link="left_upper_forearm"/>
    <child link="left_lower_forearm"/>
    <limit effort="15.0" lower="-1.57079632679" upper="2.094" velocity="4.0"/>
    <dynamics damping="0.7" friction="0.0"/>
  </joint>
  <joint name="left_w2" type="revolute">
    <origin rpy="1.57079632679 0 1.57079632679" xyz="0.115975 0 0"/>
    <axis xyz="0 0 1"/>
    <parent link="left_lower_forearm"/>
    <child link="left_wrist"/>
    <limit effort="15.0" lower="-3.059" upper="3.059" velocity="4.0"/>
    <dynamics damping="0.7" friction="0.0"/>
  </joint>
  <joint name="left_hand" type="fixed">
    <origin rpy="0 0 0" xyz="0 0 0.11355"/>
    <axis xyz="0 0 1"/>
    <parent link="left_wrist"/>
    <child link="left_hand"/>
    <dynamics damping="0.7" friction="0.0"/>
  </joint>
  <joint name="left_hand_camera" type="fixed">
    <origin rpy="0 0 -1.57079633" xyz="0.03825 0.012 0.015355"/>
    <parent link="left_hand"/>
    <child link="left_hand_camera"/>
  </joint>
  <joint name="left_hand_camera_axis" type="fixed">
    <origin rpy="0 0 0" xyz="0.03825 0.012 0.015355"/>
    <parent link="left_hand"/>
    <child link="left_hand_camera_axis"/>
  </joint>
  <joint name="left_hand_range" type="fixed">
    <origin rpy="0 -1.57079632679 -1.57079632679" xyz="0.032 -0.020245 0.0288"/>
    <parent link="left_hand"/>
    <child link="left_hand_range"/>
  </joint>
  <joint name="left_hand_accelerometer" type="fixed">
    <origin rpy="0 0 0" xyz="0.00198 0.000133 -0.0146"/>
    <parent link="left_hand"/>
    <child link="left_hand_accelerometer"/>
  </joint>
  <joint name="left_gripper_base" type="fixed">
    <origin rpy="0 0 0" xyz="0 0 0.025"/>
    <parent link="left_hand"/>
    <child link="left_gripper_base"/>
  </joint>
  <joint name="left_endpoint" type="fixed">
    <origin rpy="0 0 0" xyz="0.0 0 0.025"/>
    <parent link="left_gripper_base"/>
    <child link="left_gripper"/>
  </joint>
  <!-- Left finger -->
  <joint name="left_gripper_l_finger_joint" type="prismatic">
    <origin rpy="0 0 0" xyz="0.0 0.0015 0.02"/>
    <axis xyz="0 1 0"/>
    <parent link="left_gripper_base"/>
    <child link="left_gripper_l_finger"/>
    <limit effort="20.0" lower="0.0" upper="0.020833" velocity="5.0"/>
    <dynamics damping="0.7" friction="0.0"/>
  </joint>
  <!-- Right finger -->
  <joint name="left_gripper_r_finger_joint" type="prismatic">
    <origin rpy="0 0 0" xyz="0.0 0.0015 0.02"/>
    <axis xyz="0 -1 0"/>
    <parent link="left_gripper_base"/>
    <child link="left_gripper_r_finger"/>
    <limit effort="20.0" lower="0.0" upper="0.020833" velocity="5.0"/>
    <mimic joint="left_gripper_l_finger_joint" multiplier="-1.0"/>
    <dynamics damping="0.7" friction="0.0"/>
  </joint>
  <!-- Transmissions -->

  <!-- Right Arm -->
  <transmission name="right_tran1">
    <type>transmission_interface/SimpleTransmission</type>
    <joint name="right_s0">
      <hardwareInterface>EffortJointInterface</hardwareInterface>
    </joint>
    <actuator name="right_motor1">
      <hardwareInterface>EffortJointInterface</hardwareInterface>
      <mechanicalReduction>1</mechanicalReduction>
    </actuator>
  </transmission>
  <transmission name="right_tran2">
    <type>transmission_interface/SimpleTransmission</type>
    <joint name="right_s1">
      <hardwareInterface>EffortJointInterface</hardwareInterface>
    </joint>
    <actuator name="right_motor2">
      <hardwareInterface>EffortJointInterface</hardwareInterface>
      <mechanicalReduction>1</mechanicalReduction>
    </actuator>
  </transmission>
  <transmission name="right_tran3">
    <type>transmission_interface/SimpleTransmission</type>
    <joint name="right_e0">
      <hardwareInterface>EffortJointInterface</hardwareInterface>
    </joint>
    <actuator name="right_motor3">
      <hardwareInterface>EffortJointInterface</hardwareInterface>
      <mechanicalReduction>1</mechanicalReduction>
    </actuator>
  </transmission>
  <transmission name="right_tran4">
    <type>transmission_interface/SimpleTransmission</type>
    <joint name="right_e1">
      <hardwareInterface>EffortJointInterface</hardwareInterface>
    </joint>
    <actuator name="right_motor4">
      <hardwareInterface>EffortJointInterface</hardwareInterface>
      <mechanicalReduction>1</mechanicalReduction>
    </actuator>
  </transmission>
  <transmission name="right_tran5">
    <type>transmission_interface/SimpleTransmission</type>
    <joint name="right_w0">
      <hardwareInterface>EffortJointInterface</hardwareInterface>
    </joint>
    <actuator name="right_motor5">
      <hardwareInterface>EffortJointInterface</hardwareInterface>
      <mechanicalReduction>1</mechanicalReduction>
    </actuator>
  </transmission>
  <transmission name="right_tran6">
    <type>transmission_interface/SimpleTransmission</type>
    <joint name="right_w1">
      <hardwareInterface>EffortJointInterface</hardwareInterface>
    </joint>
    <actuator name="right_motor6">
      <hardwareInterface>EffortJointInterface</hardwareInterface>
      <mechanicalReduction>1</mechanicalReduction>
    </actuator>
  </transmission>
  <transmission name="right_tran7">
    <type>transmission_interface/SimpleTransmission</type>
    <joint name="right_w2">
      <hardwareInterface>EffortJointInterface</hardwareInterface>
    </joint>
    <actuator name="right_motor7">
      <hardwareInterface>EffortJointInterface</hardwareInterface>
      <mechanicalReduction>1</mechanicalReduction>
    </actuator>
  </transmission>

  <!-- Left Arm -->
  <transmission name="left_tran1">
    <type>transmission_interface/SimpleTransmission</type>
    <joint name="left_s0">
      <hardwareInterface>EffortJointInterface</hardwareInterface>
    </joint>
    <actuator name="left_motor1">
      <hardwareInterface>EffortJointInterface</hardwareInterface>
      <mechanicalReduction>1</mechanicalReduction>
    </actuator>
  </transmission>
  <transmission name="left_tran2">
    <type>transmission_interface/SimpleTransmission</type>
    <joint name="left_s1">      
      <hardwareInterface>EffortJointInterface</hardwareInterface>
    </joint>
    <actuator name="left_motor2">
      <hardwareInterface>EffortJointInterface</hardwareInterface>
      <mechanicalReduction>1</mechanicalReduction>
    </actuator>
  </transmission>
  <transmission name="left_tran3">
    <type>transmission_interface/SimpleTransmission</type>
    <joint name="left_e0">
      <hardwareInterface>EffortJointInterface</hardwareInterface>
    </joint>
    <actuator name="left_motor3">
      <hardwareInterface>EffortJointInterface</hardwareInterface>
      <mechanicalReduction>1</mechanicalReduction>
    </actuator>
  </transmission>
  <transmission name="left_tran4">
    <type>transmission_interface/SimpleTransmission</type>
    <joint name="left_e1">
      <hardwareInterface>EffortJointInterface</hardwareInterface>
    </joint>
    <actuator name="left_motor4">
      <hardwareInterface>EffortJointInterface</hardwareInterface>
      <mechanicalReduction>1</mechanicalReduction>
    </actuator>
  </transmission>
  <transmission name="left_tran5">
    <type>transmission_interface/SimpleTransmission</type>
    <joint name="left_w0">
      <hardwareInterface>EffortJointInterface</hardwareInterface>
    </joint>
    <actuator name="left_motor5">
      <hardwareInterface>EffortJointInterface</hardwareInterface>
      <mechanicalReduction>1</mechanicalReduction>
    </actuator>
  </transmission>
  <transmission name="left_tran6">
    <type>transmission_interface/SimpleTransmission</type>
    <joint name="left_w1">
      <hardwareInterface>EffortJointInterface</hardwareInterface>
    </joint>
    <actuator name="left_motor6">
      <hardwareInterface>EffortJointInterface</hardwareInterface>
      <mechanicalReduction>1</mechanicalReduction>
    </actuator>
  </transmission>
  <transmission name="left_tran7">
    <type>transmission_interface/SimpleTransmission</type>
    <joint name="left_w2">
      <hardwareInterface>EffortJointInterface</hardwareInterface>
    </joint>
    <actuator name="left_motor7">
      <hardwareInterface>EffortJointInterface</hardwareInterface>
      <mechanicalReduction>1</mechanicalReduction>
    </actuator>
  </transmission>

  <!-- Head -->
  <transmission name="head1">
    <type>transmission_interface/SimpleTransmission</type>
    <joint name="head_pan">
      <hardwareInterface>EffortJointInterface</hardwareInterface>
    </joint>
    <actuator name="head_motor1">
      <hardwareInterface>EffortJointInterface</hardwareInterface>
      <mechanicalReduction>1</mechanicalReduction>
    </actuator>
  </transmission>

  <!-- ros_control plugin -->
  <gazebo>
    <plugin name="baxter_ros_control" filename="libbaxter_gazebo_ros_control.so">
      <robotNamespace>/robot</robotNamespace>
    </plugin>
  </gazebo>

  <!-- Gazebo-Specific Link Properties -->
  <gazebo reference="torso">
    <selfCollide>true</selfCollide>
  </gazebo>
  <gazebo reference="head_pan">
    <implicitSpringDamper>1</implicitSpringDamper>
  </gazebo>
  <gazebo reference="right_s0">
    <implicitSpringDamper>1</implicitSpringDamper>
  </gazebo>
  <gazebo reference="right_s1">
    <implicitSpringDamper>1</implicitSpringDamper>
  </gazebo>
  <gazebo reference="right_e0">
    <implicitSpringDamper>1</implicitSpringDamper>
  </gazebo>
  <gazebo reference="right_e1">
    <implicitSpringDamper>1</implicitSpringDamper>
  </gazebo>
  <gazebo reference="right_w0">
    <implicitSpringDamper>1</implicitSpringDamper>
  </gazebo>
  <gazebo reference="right_w1">
    <implicitSpringDamper>1</implicitSpringDamper>
  </gazebo>
  <gazebo reference="right_w2">
    <implicitSpringDamper>1</implicitSpringDamper>
  </gazebo>
  <gazebo reference="left_s0">
    <implicitSpringDamper>1</implicitSpringDamper>
  </gazebo>
  <gazebo reference="left_s1">
    <implicitSpringDamper>1</implicitSpringDamper>
  </gazebo>
  <gazebo reference="left_e0">
    <implicitSpringDamper>1</implicitSpringDamper>
  </gazebo>
  <gazebo reference="left_e1">
    <implicitSpringDamper>1</implicitSpringDamper>
  </gazebo>
  <gazebo reference="left_w0">
    <implicitSpringDamper>1</implicitSpringDamper>
  </gazebo>
  <gazebo reference="left_w1">
    <implicitSpringDamper>1</implicitSpringDamper>
  </gazebo>
  <gazebo reference="left_w2">
    <implicitSpringDamper>1</implicitSpringDamper>
  </gazebo>
  <gazebo reference="head_camera">
    <sensor name="head_camera" type="camera">
      <update_rate>30.0</update_rate>
      <camera name="head_camera">
        <pose>0.0 0.21 0.0 0.0 -0.8 -1.570796327 </pose>
        <horizontal_fov>1.3962634</horizontal_fov>
        <image>
          <width>800</width>
          <height>800</height>
          <format>R8G8B8</format>
        </image>
        <clip>
          <near>0.02</near>
          <far>300</far>
        </clip>
        <noise>
          <type>gaussian</type>
          <mean>0.0</mean>
          <stddev>0.007</stddev>
        </noise>
      </camera>
      <plugin filename="libgazebo_ros_camera.so" name="camera_controller">
        <alwaysOn>true</alwaysOn>
        <updateRate>0.0</updateRate>
        <cameraName>head_camera</cameraName>
        <imageTopicName>image</imageTopicName>
        <cameraInfoTopicName>camera_info</cameraInfoTopicName>
        <frameName>head_camera</frameName>
        <hackBaseline>0.07</hackBaseline>
        <distortionK1>0.0</distortionK1>
        <distortionK2>0.0</distortionK2>
        <distortionK3>0.0</distortionK3>
        <distortionT1>0.0</distortionT1>
        <distortionT2>0.0</distortionT2>
        <robotNamespace>/cameras</robotNamespace>
      </plugin>
    </sensor>
  </gazebo>
  <gazebo reference="right_hand_camera">
    <sensor name="right_hand_camera" type="camera">
      <update_rate>30.0</update_rate>
      <camera name="right_hand_camera">
        <pose>0.0 0.0 0.0 0.0 -1.570796327 1.570796327 </pose>
        <horizontal_fov>1.3962634</horizontal_fov>
        <image>
          <width>800</width>
          <height>800</height>
          <format>R8G8B8</format>
        </image>
        <clip>
          <near>0.02</near>
          <far>300</far>
        </clip>
        <noise>
          <type>gaussian</type>
          <mean>0.0</mean>
          <stddev>0.007</stddev>
        </noise>
      </camera>
      <plugin filename="libgazebo_ros_camera.so" name="camera_controller">
        <alwaysOn>true</alwaysOn>
        <updateRate>0.0</updateRate>
        <cameraName>right_hand_camera</cameraName>
        <imageTopicName>image</imageTopicName>
        <cameraInfoTopicName>camera_info</cameraInfoTopicName>
        <frameName>right_hand_camera</frameName>
        <hackBaseline>0.07</hackBaseline>
        <distortionK1>0.0</distortionK1>
        <distortionK2>0.0</distortionK2>
        <distortionK3>0.0</distortionK3>
        <distortionT1>0.0</distortionT1>
        <distortionT2>0.0</distortionT2>
        <robotNamespace>/cameras</robotNamespace>
      </plugin>
    </sensor>
  </gazebo>
  <gazebo reference="left_hand_camera">
    <sensor name="left_hand_camera" type="camera">
      <update_rate>30.0</update_rate>
      <camera name="left_hand_camera">
        <pose>0.0 0.0 0.0 0.0 -1.570796327 1.570796327 </pose>
        <horizontal_fov>1.3962634</horizontal_fov>
        <image>
          <width>800</width>
          <height>800</height>
          <format>R8G8B8</format>
        </image>
        <clip>
          <near>0.02</near>
          <far>300</far>
        </clip>
        <noise>
          <type>gaussian</type>
          <mean>0.0</mean>
          <stddev>0.007</stddev>
        </noise>
      </camera>
      <plugin filename="libgazebo_ros_camera.so" name="camera_controller">
        <alwaysOn>true</alwaysOn>
        <updateRate>0.0</updateRate>
        <cameraName>left_hand_camera</cameraName>
        <imageTopicName>image</imageTopicName>
        <cameraInfoTopicName>camera_info</cameraInfoTopicName>
        <frameName>left_hand_camera</frameName>
        <hackBaseline>0.07</hackBaseline>
        <distortionK1>0.0</distortionK1>
        <distortionK2>0.0</distortionK2>
        <distortionK3>0.0</distortionK3>
        <distortionT1>0.0</distortionT1>
        <distortionT2>0.0</distortionT2>
        <robotNamespace>/cameras</robotNamespace>
      </plugin>
    </sensor>
  </gazebo>
  <gazebo reference="display">
    <visual>
      <plugin name="screen_video_controller" filename="libgazebo_ros_video.so">
        <height>600</height>
        <width>1024</width>
        <topicName>/robot/xdisplay</topicName>
      </plugin>
    </visual>
  </gazebo>
  <gazebo reference="sonar_ring">
    <sensor name="sonar" type="ray">
      <pose>0.0 0.0 0.0 0.0 0.0 0.0</pose>
      <ray>
        <scan>
          <horizontal>
            <samples>12</samples>
            <resolution>1.0</resolution>
            <min_angle>-3.14</min_angle>
            <max_angle>3.14</max_angle>
          </horizontal>
          <vertical>
            <samples>2</samples>
            <resolution>1.0</resolution>
            <min_angle>-0.001</min_angle>
            <max_angle>0</max_angle>
          </vertical>
        </scan>
        <range>
          <min>0.05</min>
          <max>50.0</max>
        </range>
      </ray>
      <plugin name="sonar_plugin" filename="libgazebo_ros_block_laser.so">
        <gaussianNoise>0.00</gaussianNoise>
        <alwaysOn>true</alwaysOn>
        <updateRate>100.0</updateRate>
        <topicName>/robot/sonar/head_sonar/state</topicName>
        <frameName>sonar_ring</frameName>
      </plugin>
      <always_on>true</always_on>
      <update_rate>100.0</update_rate>
    </sensor>
  </gazebo>
  <gazebo reference="right_hand_range">
    <sensor name="ir_right" type="ray">
      <pose>0.0 0.0 0.0 0.0 0.0 0.0</pose>
      <ray>
        <scan>
          <horizontal>
            <samples>1</samples>
            <resolution>1.0</resolution>
            <min_angle>-0.5</min_angle>
            <max_angle>0.5</max_angle>
          </horizontal>
        </scan>
        <range>
          <min>0.004</min>
          <max>0.4</max>
        </range>
      </ray>
      <plugin name="plugin_3" filename="libgazebo_ros_laser.so">
        <gaussianNoise>0.005</gaussianNoise>
        <alwaysOn>true</alwaysOn>
        <updateRate>100</updateRate>
        <topicName>/sim/laserscan/right_hand_range/state</topicName>
        <frameName>right_hand_range</frameName>
      </plugin>
      <always_on>true</always_on>
      <update_rate>100.0</update_rate>
    </sensor>
  </gazebo>
  <gazebo reference="left_hand_range">
    <sensor name="ir_left" type="ray">
      <pose>0.0 0.0 0.0 0.0 0.0 0.0</pose>
      <ray>
        <scan>
          <horizontal>
            <samples>1</samples>
            <resolution>1.0</resolution>
            <min_angle>-0.5</min_angle>
            <max_angle>0.5</max_angle>
          </horizontal>
        </scan>
        <range>
          <min>0.004</min>
          <max>0.4</max>
        </range>
      </ray>
      <plugin name="plugin_4" filename="libgazebo_ros_laser.so">
        <gaussianNoise>0.005</gaussianNoise>
        <alwaysOn>true</alwaysOn>
        <updateRate>100</updateRate>
        <topicName>/sim/laserscan/left_hand_range/state</topicName>
        <frameName>left_hand_range</frameName>
      </plugin>
      <always_on>true</always_on>
      <update_rate>100.0</update_rate>
    </sensor>
  </gazebo>
</robot>
